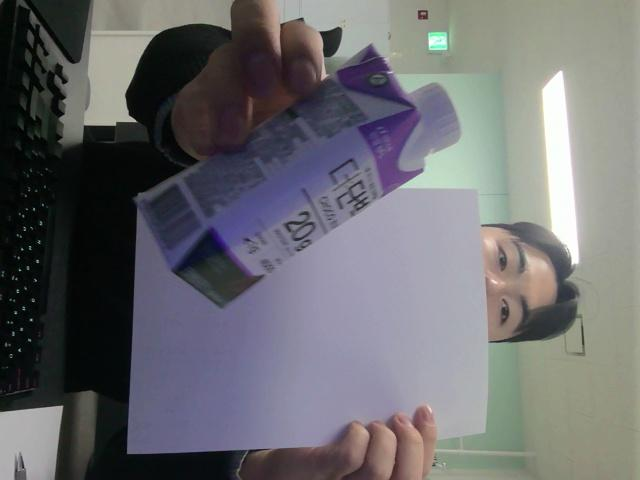milk: (137, 45, 459, 307)
